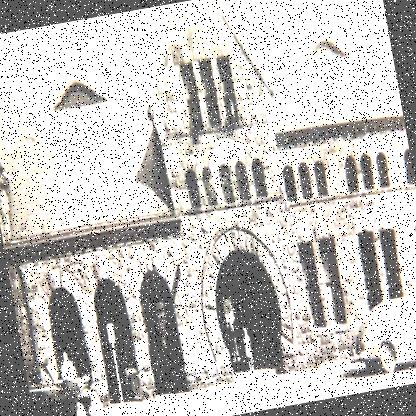Car: (340, 291, 415, 383), (23, 345, 103, 415)
